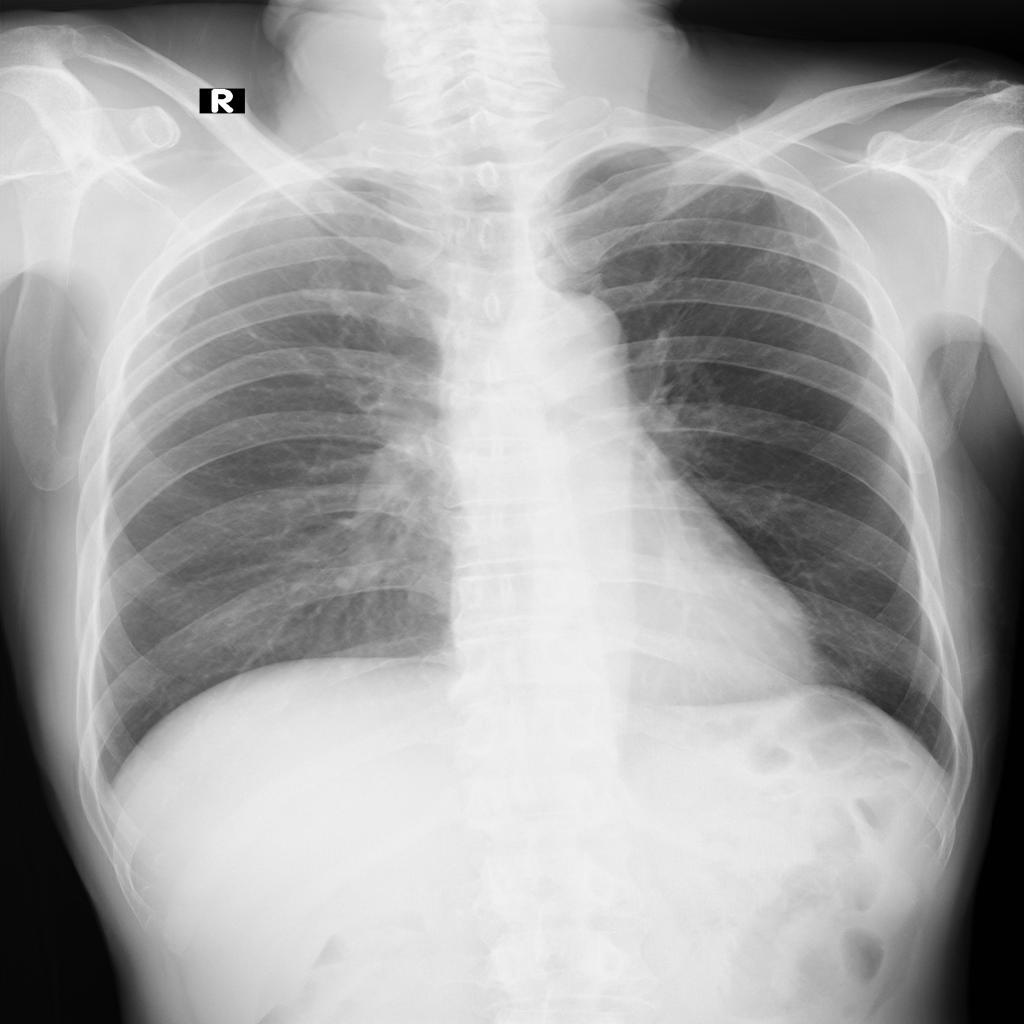Nodule: (317, 197, 337, 215), (182, 362, 195, 374)
